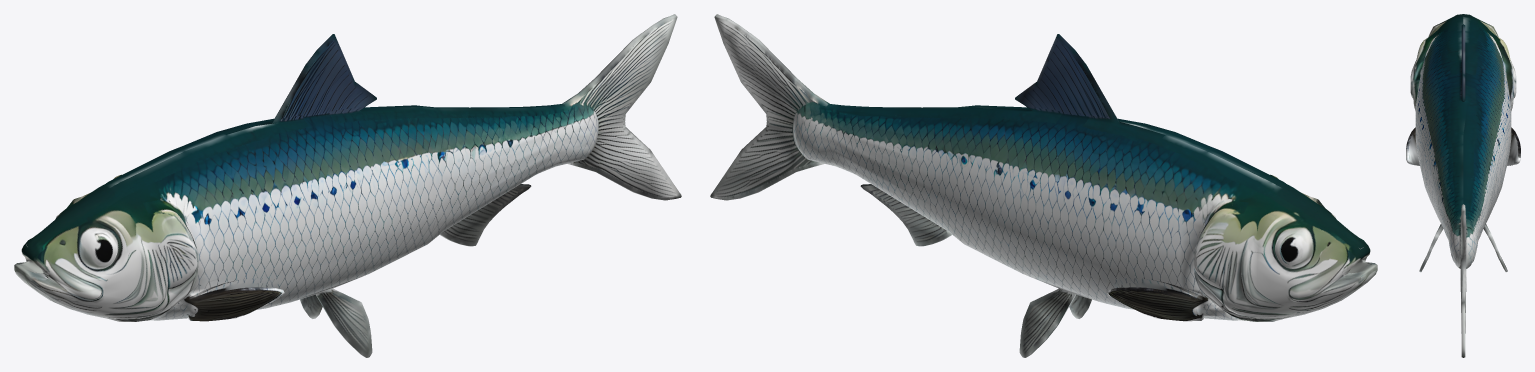
Rendered from cartoon.glb.
The picture shows the model from 3 angles, left to right: view 1: azimuth 30°, elevation 25°; view 2: azimuth 150°, elevation 25°; view 3: azimuth 270°, elevation 25°; orthographic projection. The views are drawn at different scales.
Parts seen in each view (by area): view 1: texture_pbr_20250901.001; view 2: texture_pbr_20250901.001; view 3: texture_pbr_20250901.001.
Part boxes in pixels (<box>): texture_pbr_20250901.001: <box>14,14,681,357</box>; texture_pbr_20250901.001: <box>710,14,1377,357</box>; texture_pbr_20250901.001: <box>1406,14,1520,357</box>.
Bounding box in the file's own units: 1.52 × 0.6719 × 0.2859.
1 material, 1 textured.
